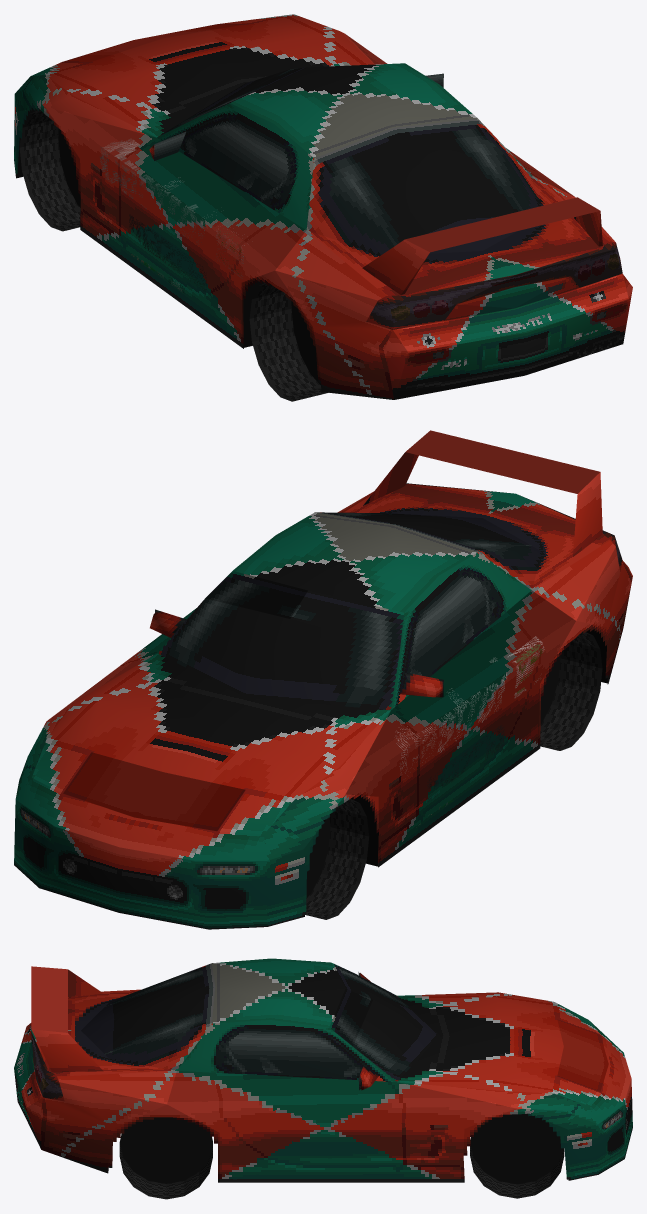
The model's file is GT_SIMULATION__AFD7R.glb.
3 renders of one model, top to bottom at view 1: azimuth 30°, elevation 25°; view 2: azimuth 150°, elevation 25°; view 3: azimuth 270°, elevation 25°, orthographic. The views are drawn at different scales.
Parts seen in each view (by area): view 1: Native body LOD0, Native wheel 2, Native wheel 0; view 2: Native body LOD0, Native wheel 0, Native wheel 2; view 3: Native body LOD0, Native wheel 1, Native wheel 3.
Part boxes in pixels (box(x1,y1,x2,y2)): Native body LOD0: box(14, 14, 632, 399); Native wheel 2: box(249, 283, 328, 401); Native wheel 0: box(19, 109, 80, 231); Native body LOD0: box(14, 430, 632, 929); Native wheel 0: box(306, 799, 369, 919); Native wheel 2: box(540, 631, 602, 750); Native body LOD0: box(14, 958, 632, 1182); Native wheel 1: box(470, 1113, 564, 1198); Native wheel 3: box(119, 1117, 212, 1199).
Size of the model in its own units: 1.82 by 1.23 by 4.3.
Materials: 12 (11 with a texture image).
